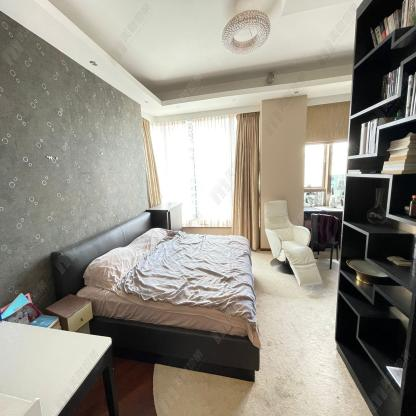Bed: (75, 226, 260, 384)
